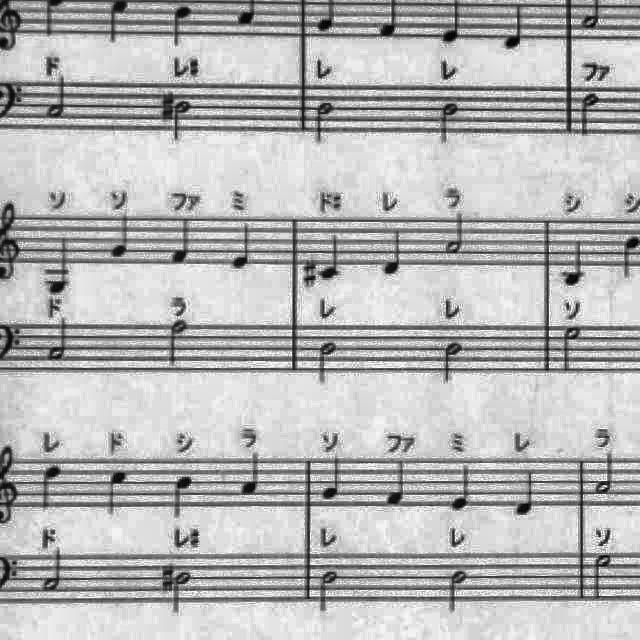Diez: (302, 256, 320, 290)
Half-note: (558, 322, 586, 378), (164, 316, 192, 372), (590, 549, 618, 603), (40, 544, 68, 596), (445, 566, 473, 618), (46, 316, 74, 368), (45, 73, 73, 124), (310, 99, 338, 148), (576, 88, 602, 140), (314, 568, 342, 616), (592, 450, 618, 500), (441, 335, 467, 385), (442, 210, 468, 260), (314, 337, 340, 387), (437, 100, 463, 148), (173, 569, 194, 619), (173, 97, 194, 145)
Quarter-note: (44, 234, 78, 298), (558, 236, 588, 292), (446, 460, 476, 516), (103, 464, 133, 520), (38, 460, 66, 516), (380, 224, 408, 280), (171, 472, 201, 524), (316, 229, 344, 283), (512, 466, 540, 520), (168, 213, 196, 267), (168, 1, 198, 51), (237, 448, 267, 498), (106, 210, 134, 262), (382, 458, 410, 510), (320, 453, 348, 505), (231, 219, 257, 273), (498, 0, 526, 50)
